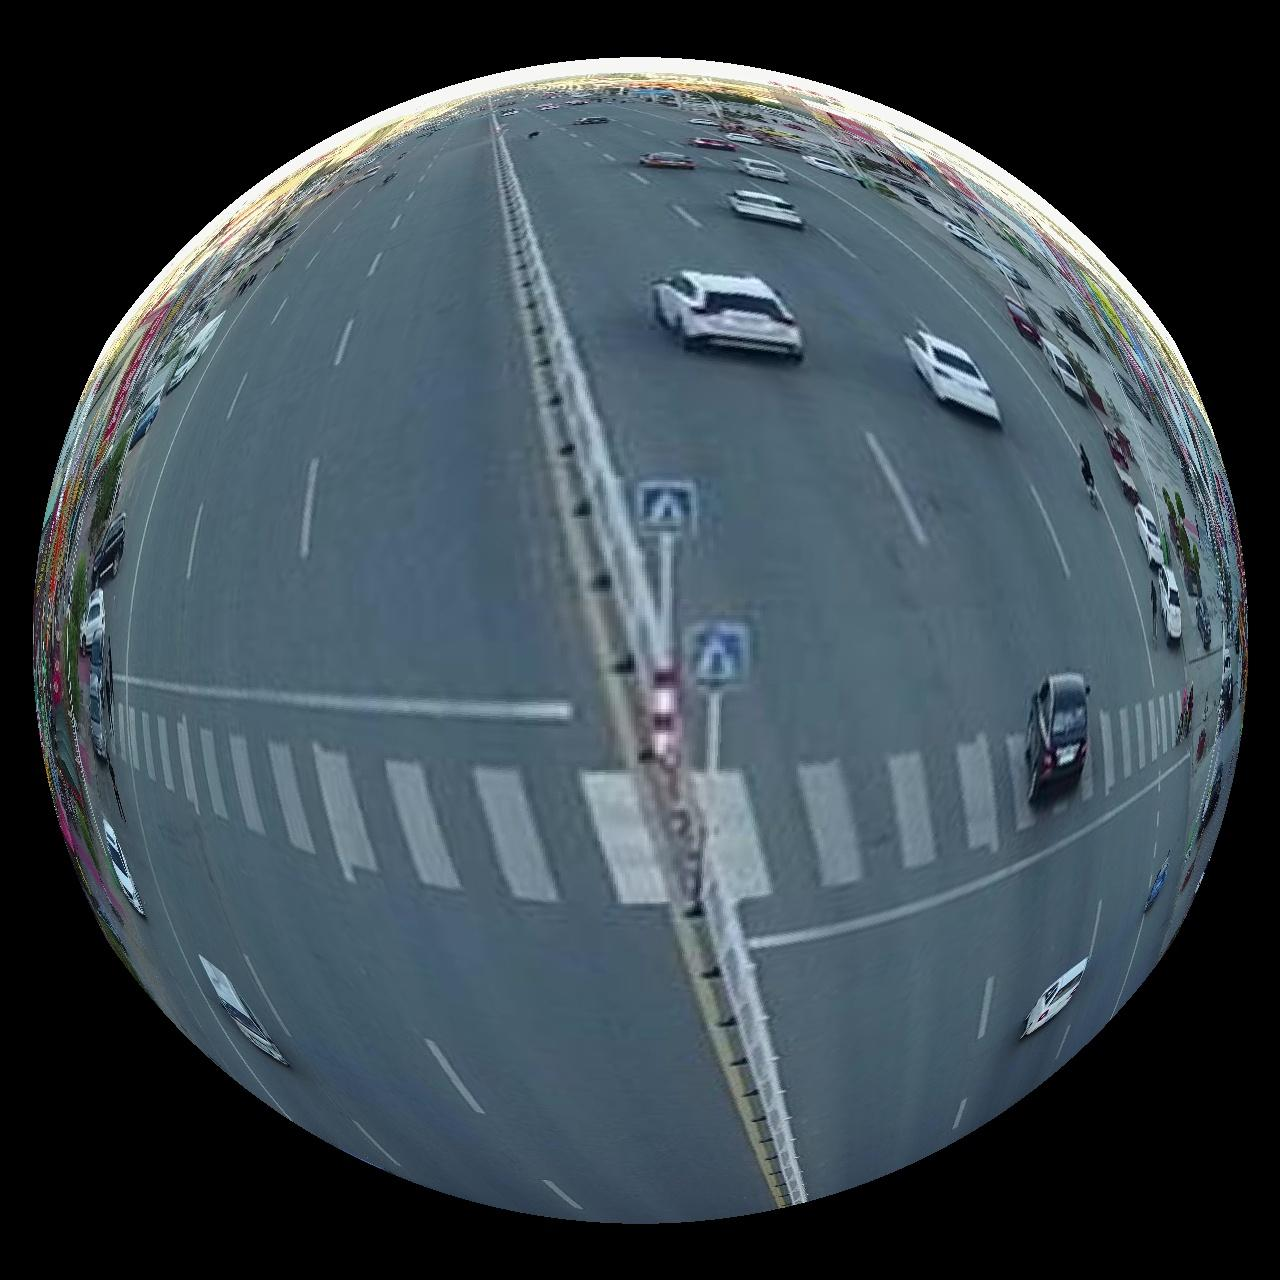cars: (652, 268, 805, 361), (197, 956, 287, 1067), (906, 329, 1003, 422), (1028, 673, 1092, 804), (1023, 958, 1089, 1040), (101, 822, 142, 917), (728, 188, 806, 227), (91, 513, 125, 585), (738, 155, 789, 182), (639, 150, 697, 169), (573, 113, 610, 125)
